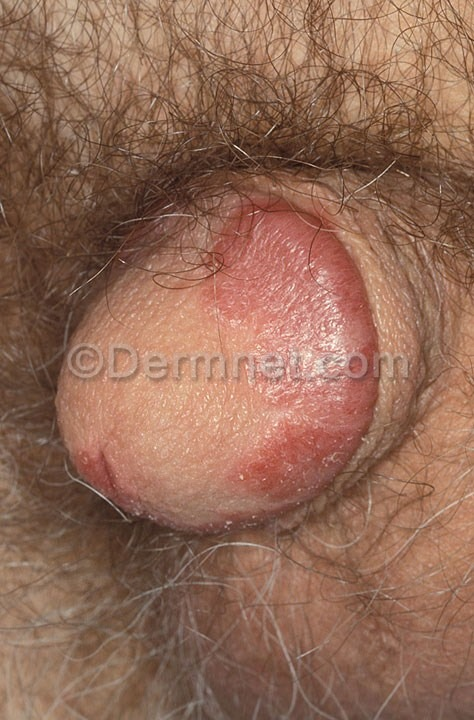Psoriasis: (164, 185, 404, 510)
